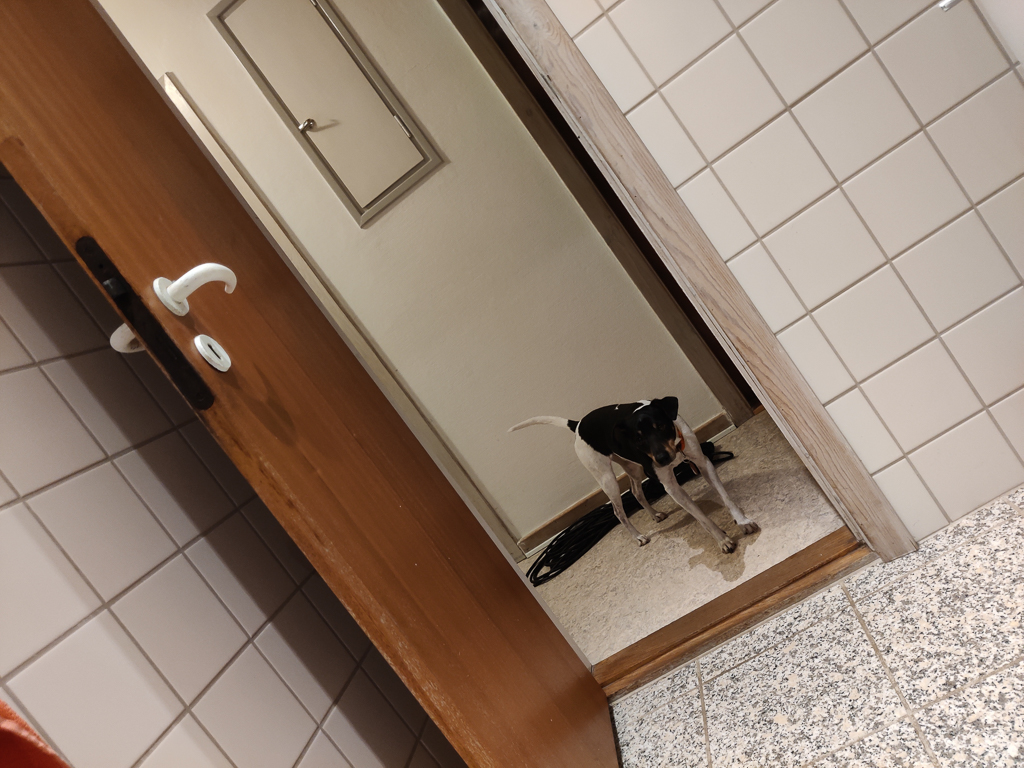Dog: (501, 389, 773, 559)
